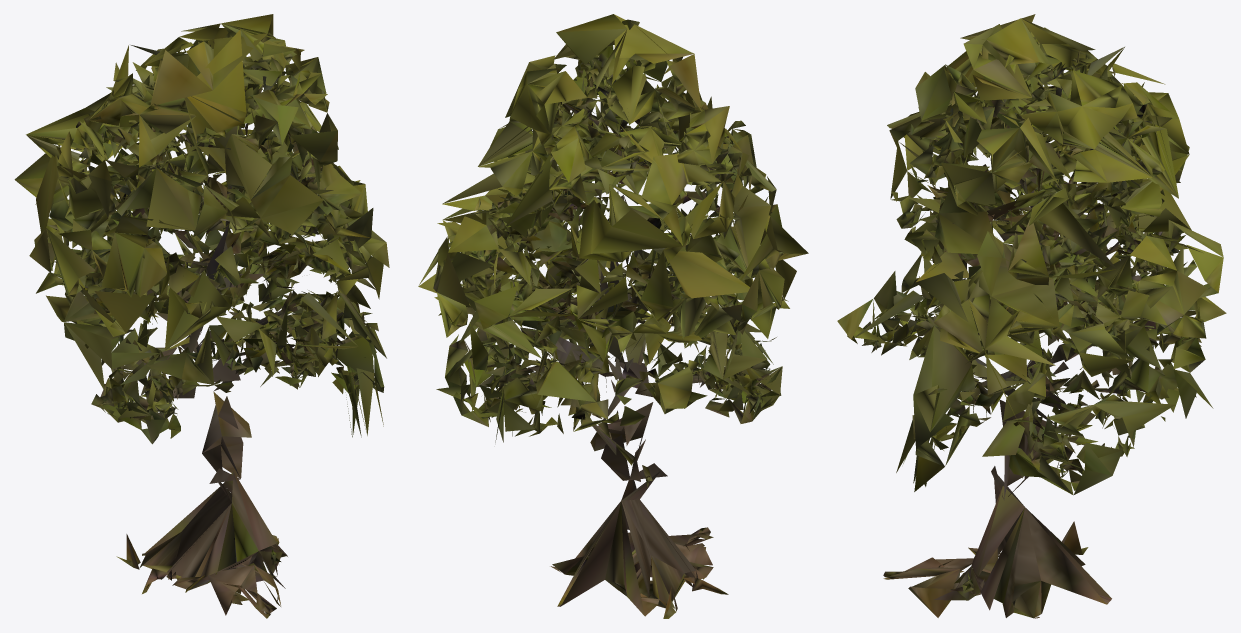
The model's file is A_towering_ancient_oa.glb.
3 views of the same model, side by side, from view 1: azimuth 30°, elevation 25°; view 2: azimuth 150°, elevation 25°; view 3: azimuth 270°, elevation 25° (orthographic). The views are drawn at different scales.
Parts seen in each view (by area): view 1: A_towering_ancient_oa_lite; view 2: A_towering_ancient_oa_lite; view 3: A_towering_ancient_oa_lite.
Part boxes in pixels (x1,y1,x2,y2): A_towering_ancient_oa_lite: (14,14,389,618); A_towering_ancient_oa_lite: (418,14,808,618); A_towering_ancient_oa_lite: (837,14,1226,618).
Bounding box in the file's own units: 15.88 × 26.07 × 15.63.
Materials: 1 (1 with a texture image).
